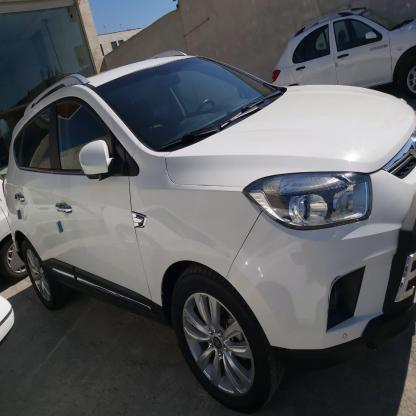Car: (0, 50, 416, 416), (237, 0, 416, 126)
